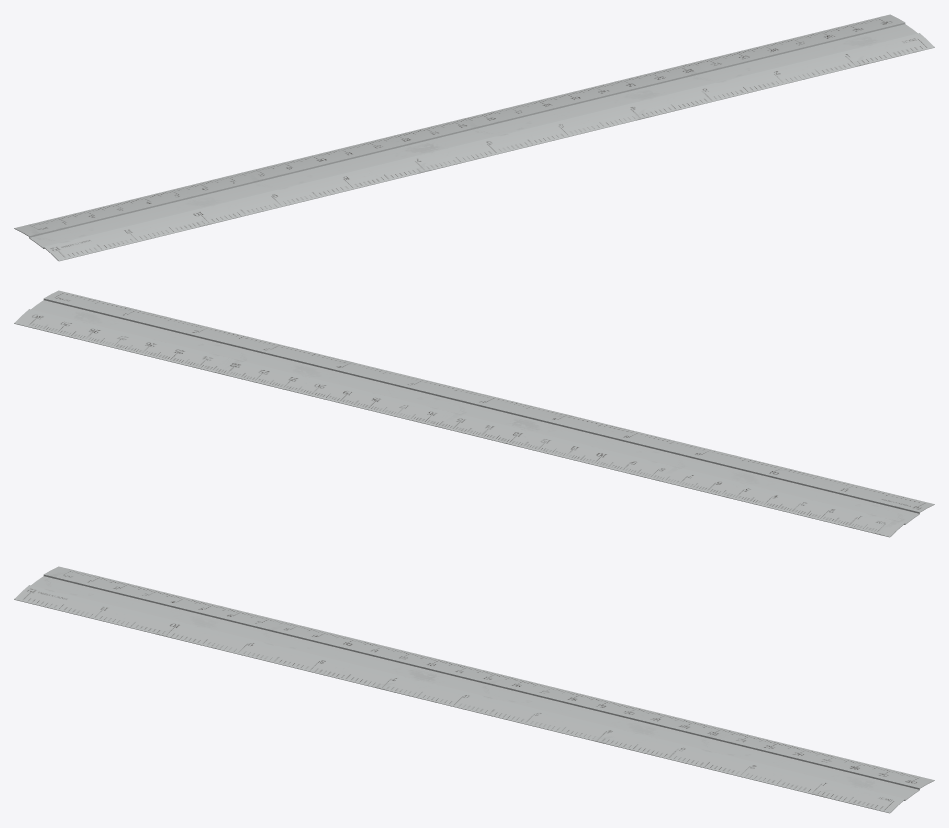
Rendered from MetalRuler.fbx.
3 views of the same model, one above another, from view 1: azimuth 30°, elevation 25°; view 2: azimuth 150°, elevation 25°; view 3: azimuth 330°, elevation 25° (orthographic).
Visible parts, largest first — view 1: MetalRuler_low_002; view 2: MetalRuler_low_002; view 3: MetalRuler_low_002.
Part boxes in pixels (x1=…): MetalRuler_low_002: x1=14, y1=14, x2=934, y2=261; MetalRuler_low_002: x1=14, y1=290, x2=934, y2=537; MetalRuler_low_002: x1=14, y1=566, x2=934, y2=813.
Bounding box in the file's own units: 31 × 0.1202 × 2.75.
1 material, 1 textured.
